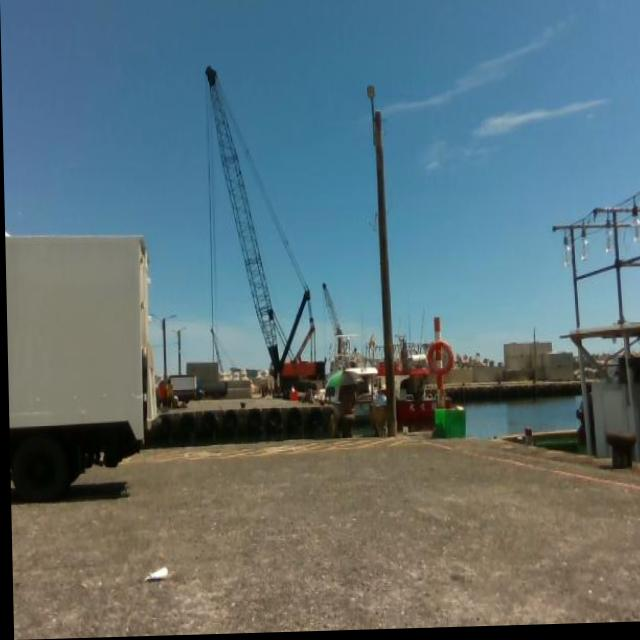pollute: (142, 565, 167, 583)
